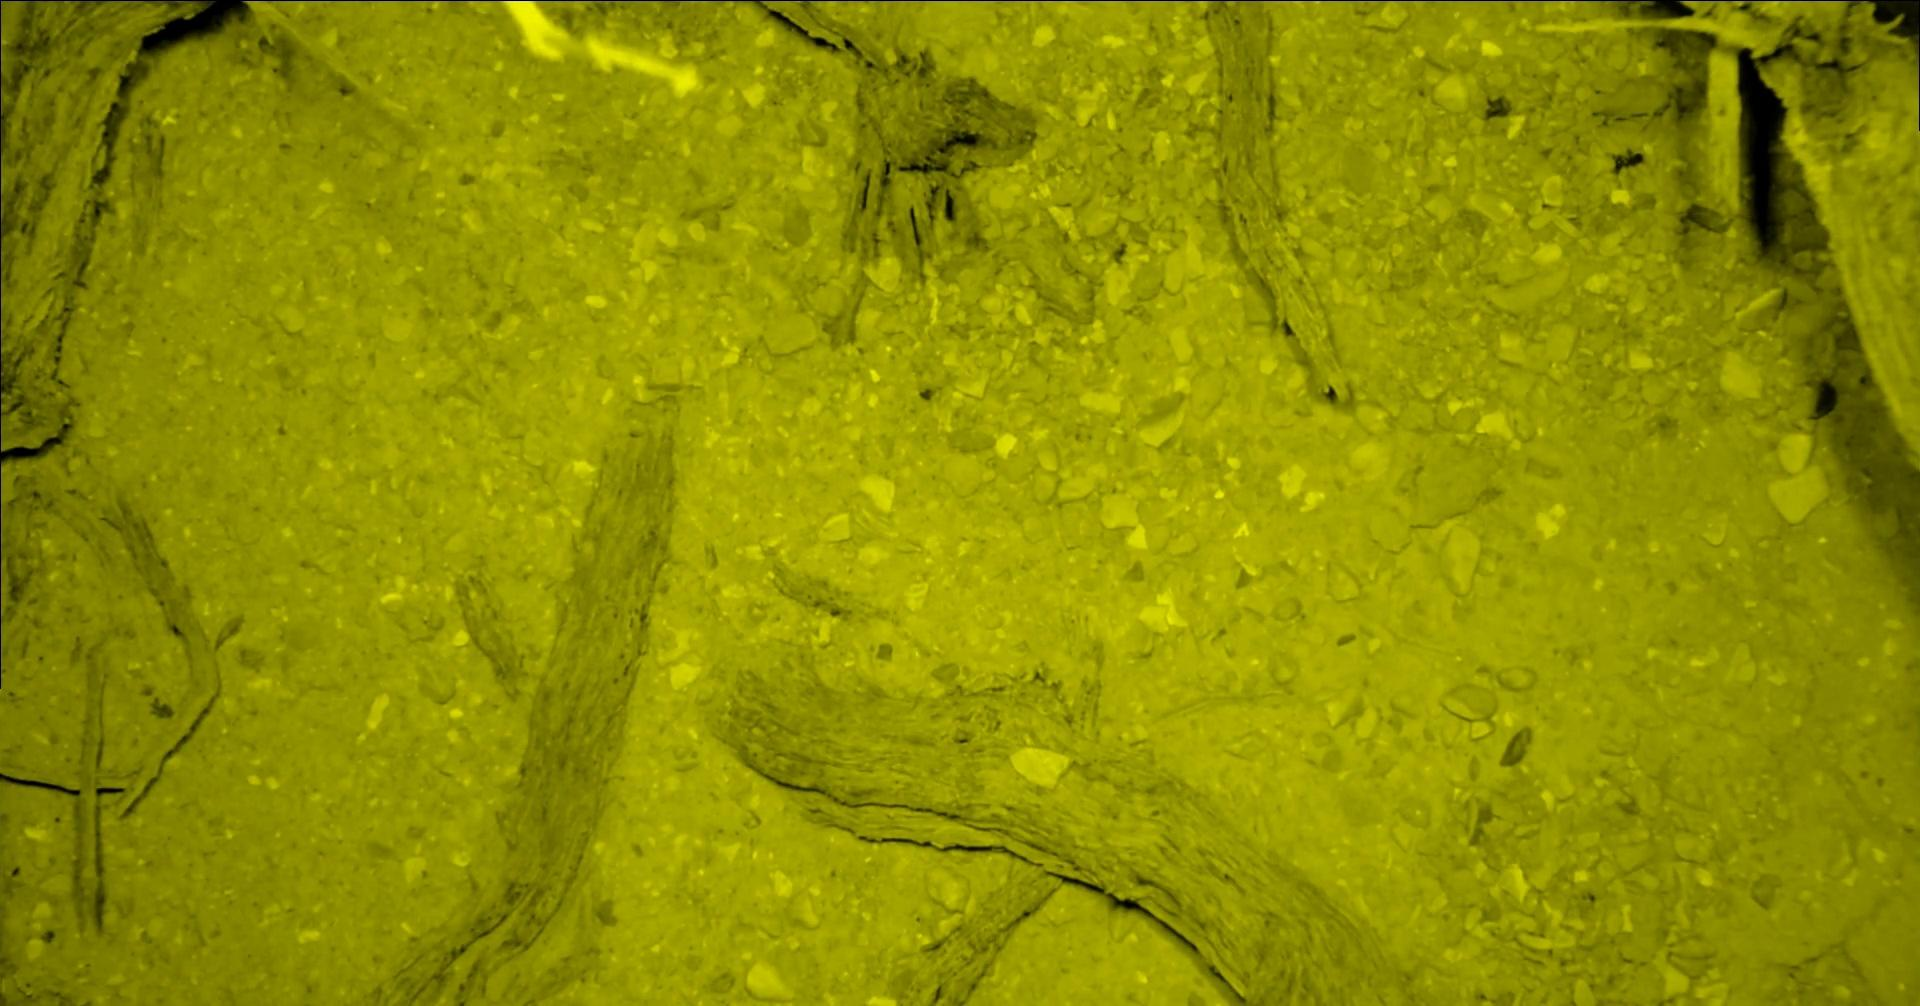ant: (0, 0, 63, 14), (69, 0, 201, 1)
